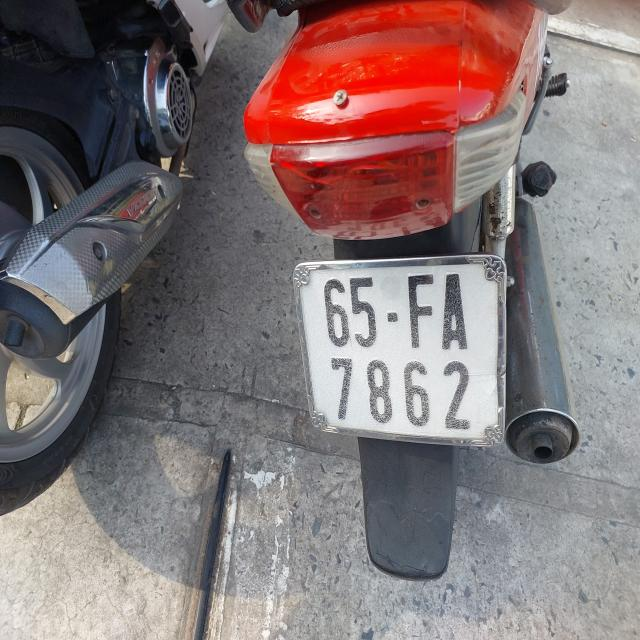2: (440, 362, 474, 429)
5: (347, 274, 380, 352)
6: (320, 275, 350, 351), (401, 359, 432, 428)
7: (332, 355, 354, 426)
8: (365, 356, 394, 426)
A: (436, 272, 471, 349)
F: (408, 272, 437, 353)
